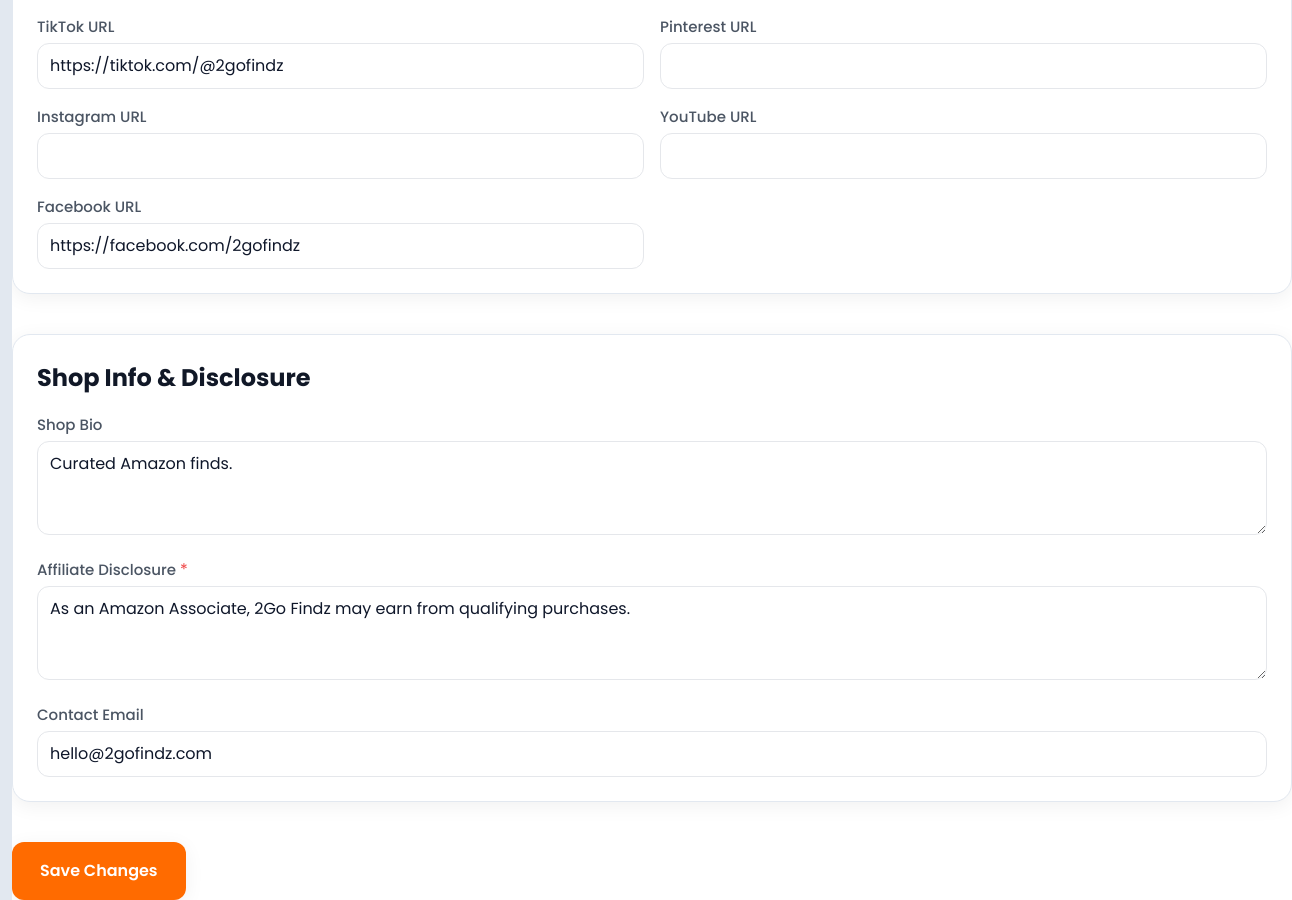
Scenario: SettingsPage › shows a success toast after saving
The image size is (1292, 900).
(page scrolled)
What coordinates should you click on to do the following:
click the button "Save Changes"
I would click on:
 (99, 871)
Its box is 12,842 -> 186,899.
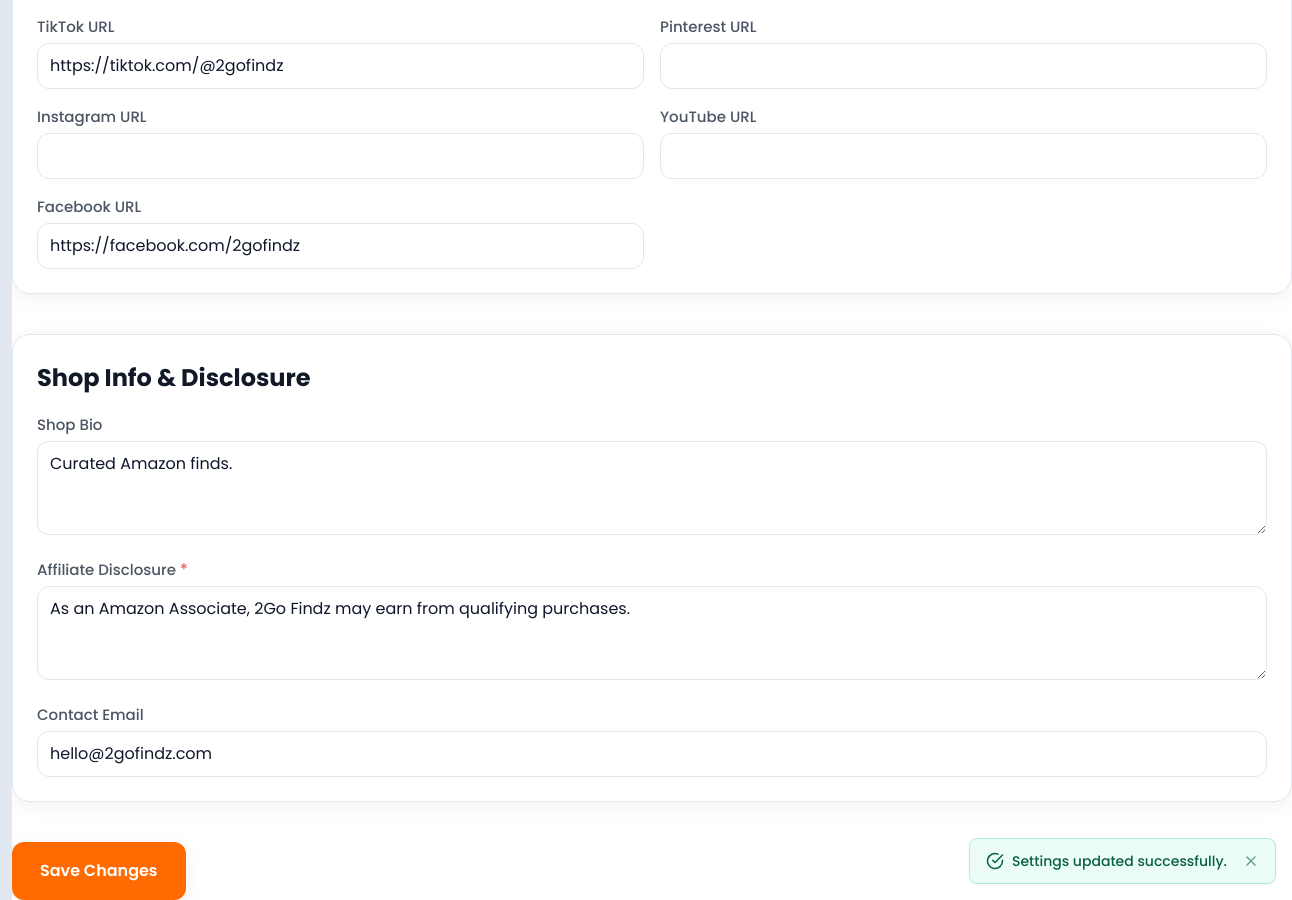
Now the text "Settings updated successfully." is shown, box 1012,851 -> 1227,871
